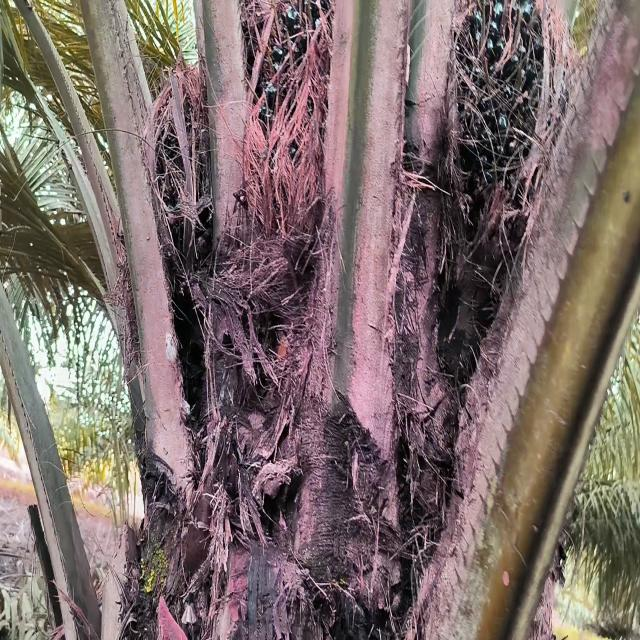palm-oil: (246, 0, 341, 254), (446, 0, 546, 240)
